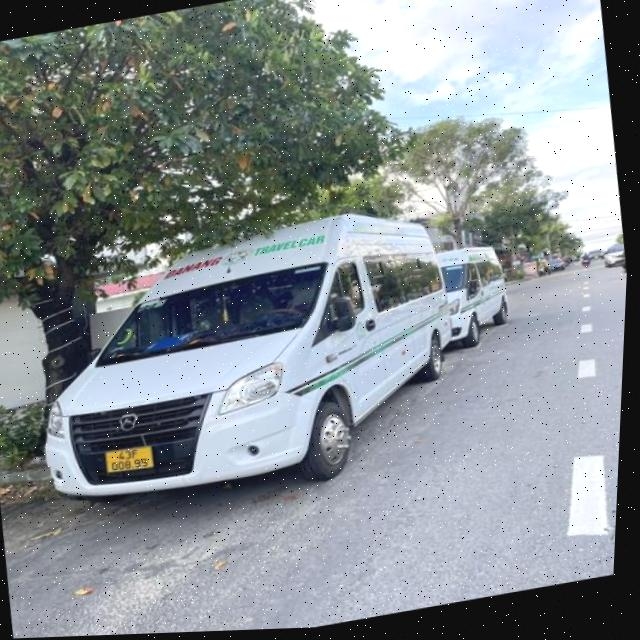car: (11, 188, 510, 533), (601, 236, 627, 272)
plate: (97, 433, 162, 486)
